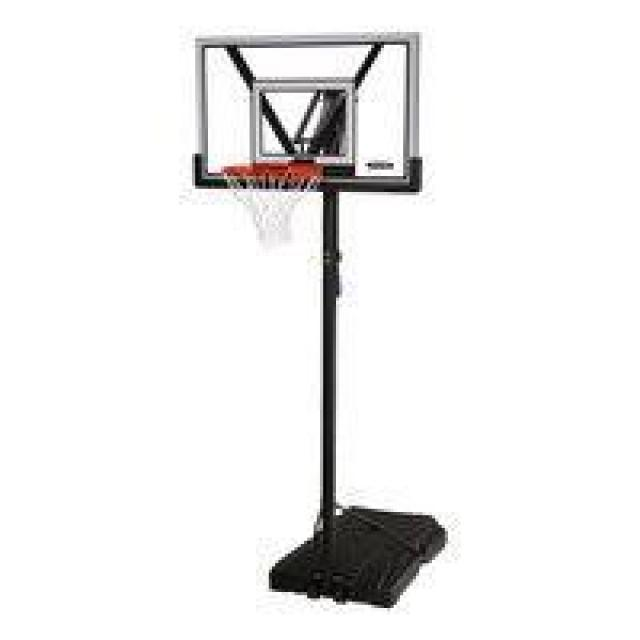hoop: (221, 163, 323, 243)
